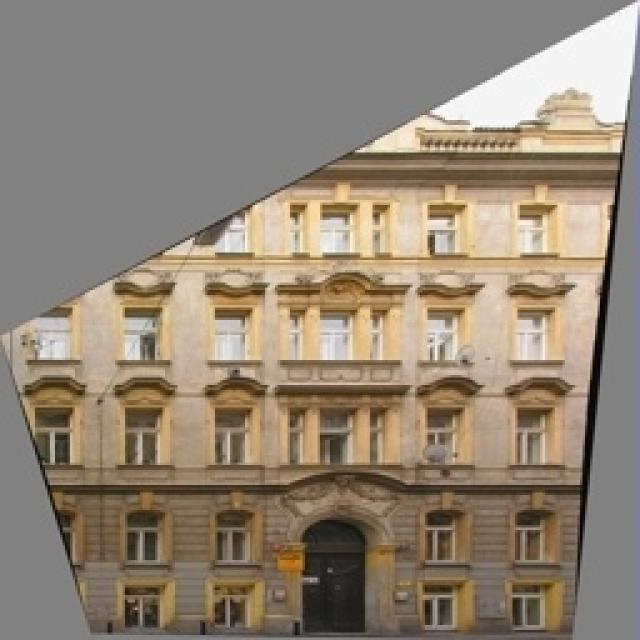building: (0, 120, 578, 640)
